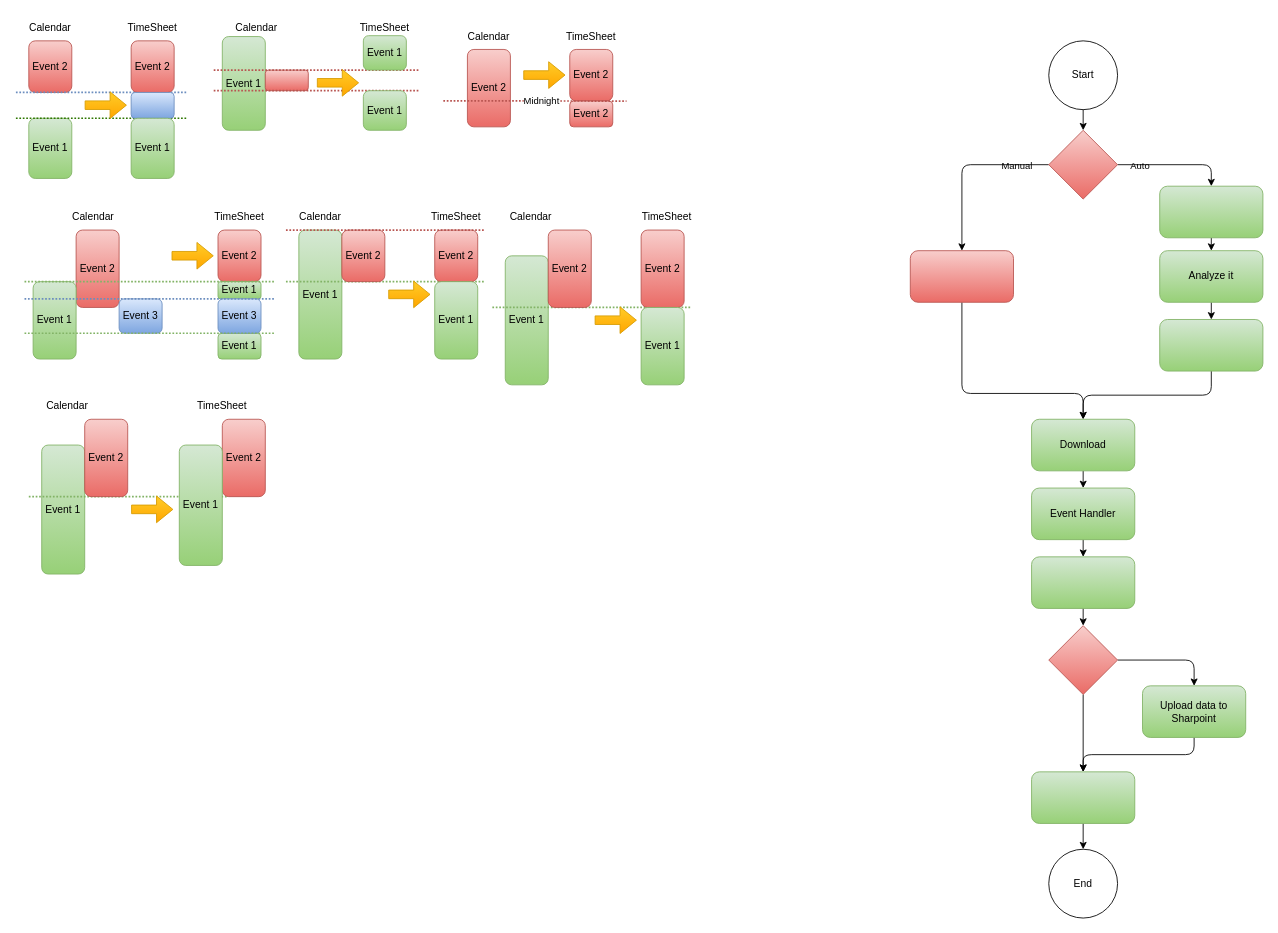
The diagram is 1278 pixels wide and 933 high, and some of its shapes have lost their labels. The shapes that lost their labels are listed below. From the top down, each one's box as (x1, y1, x2, y2) in pixels, then its label:
(264, 69, 308, 91): Launch
(130, 92, 174, 118): Filled
(1048, 129, 1118, 199): Dates
(1159, 185, 1263, 238): Downlaod Timeshets from Sharepoint
(909, 250, 1014, 302): Define Start and End Date for downlaod
(1159, 319, 1263, 371): Use only missing dates
(1031, 556, 1135, 608): Summary Print
(1048, 625, 1118, 694): Upload
(1031, 771, 1135, 823): Open .csv
